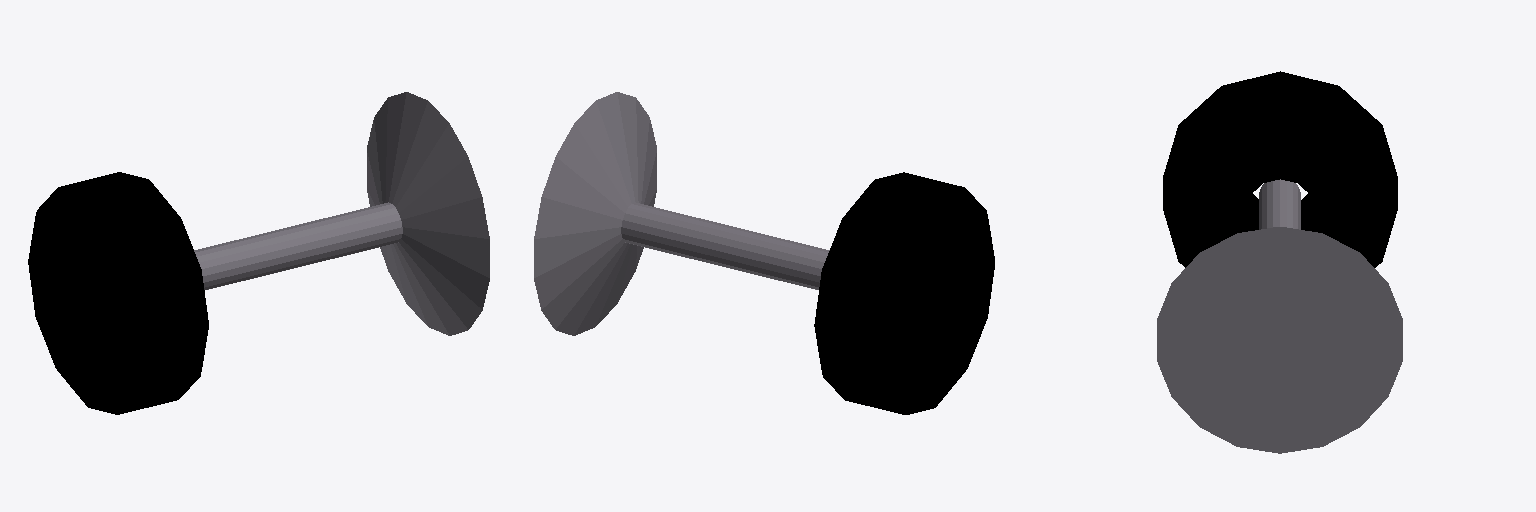
File: chairsw.obj
The picture shows the model from 3 angles: view 1: azimuth 30°, elevation 25°; view 2: azimuth 150°, elevation 25°; view 3: azimuth 270°, elevation 25°; orthographic projection.
Visible parts, largest first — view 1: Chair_SW_D; view 2: Chair_SW_D; view 3: Chair_SW_D.
Part boxes in pixels (x1,y1,x2,y2): Chair_SW_D: (28,92,489,414); Chair_SW_D: (534,92,994,414); Chair_SW_D: (1157,71,1402,453).
Bounding box in the file's own units: 26.33 × 16.54 × 16.29.